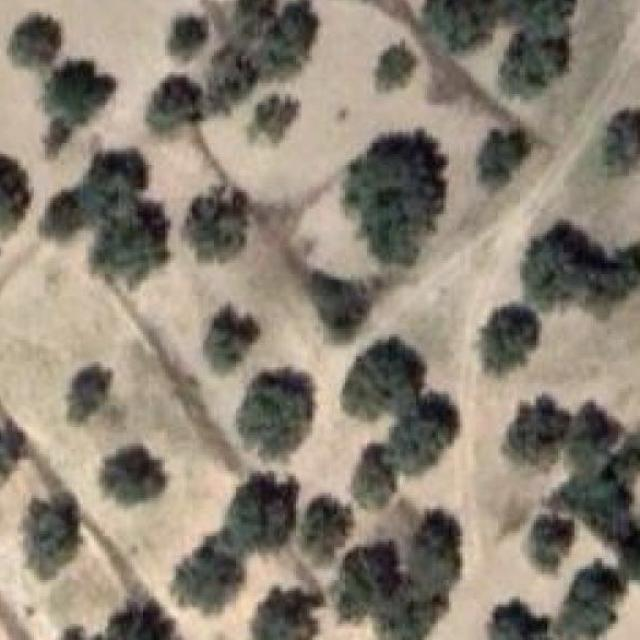Tree: (343, 130, 446, 264), (553, 399, 640, 547), (522, 222, 640, 309), (237, 367, 315, 456), (93, 198, 170, 287), (341, 338, 422, 420), (166, 536, 244, 619), (383, 394, 458, 476), (225, 474, 299, 553), (554, 561, 626, 640), (40, 56, 118, 126), (332, 542, 400, 621), (251, 0, 318, 78), (502, 394, 572, 468), (22, 492, 80, 578), (371, 574, 446, 640), (183, 187, 247, 263), (496, 36, 569, 99), (405, 509, 460, 592), (76, 148, 151, 206), (308, 271, 367, 342), (479, 304, 538, 374), (101, 444, 167, 504), (423, 0, 499, 52), (204, 305, 260, 372), (301, 496, 354, 564), (251, 588, 320, 640), (205, 45, 258, 112), (145, 76, 203, 132), (478, 129, 531, 189), (94, 602, 176, 640), (352, 443, 396, 507), (488, 598, 554, 640), (10, 15, 61, 69), (504, 0, 576, 38), (41, 184, 88, 242), (0, 154, 32, 236), (530, 514, 574, 572), (601, 110, 640, 175), (248, 96, 298, 145), (70, 364, 110, 422), (623, 498, 640, 629), (377, 42, 416, 92), (167, 17, 205, 59), (0, 425, 23, 483)
